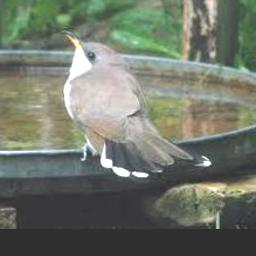Cuckoo: (58, 30, 212, 177)
